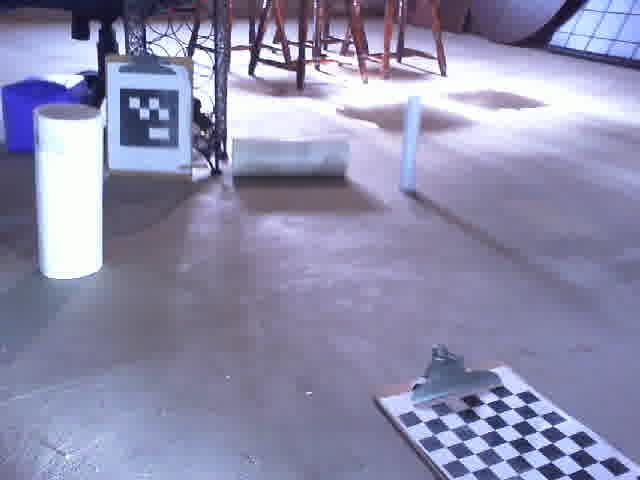coral: (29, 100, 112, 281), (228, 130, 354, 182)
